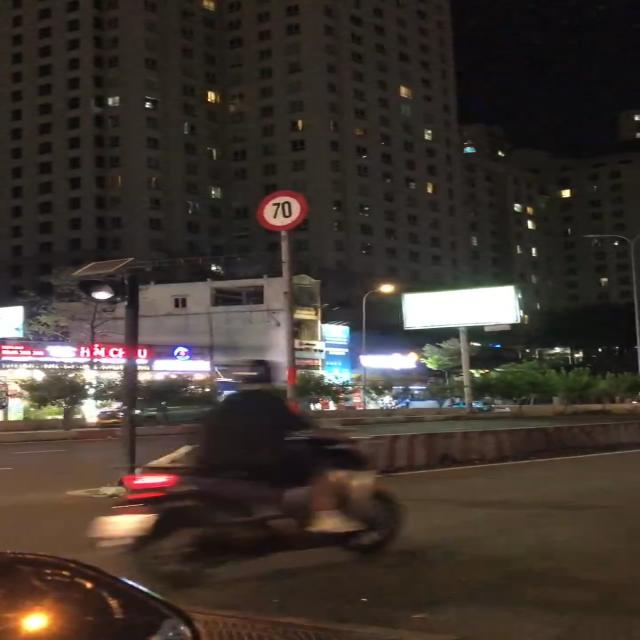Bien bao toc do toi da cho phep: (248, 186, 321, 238)
